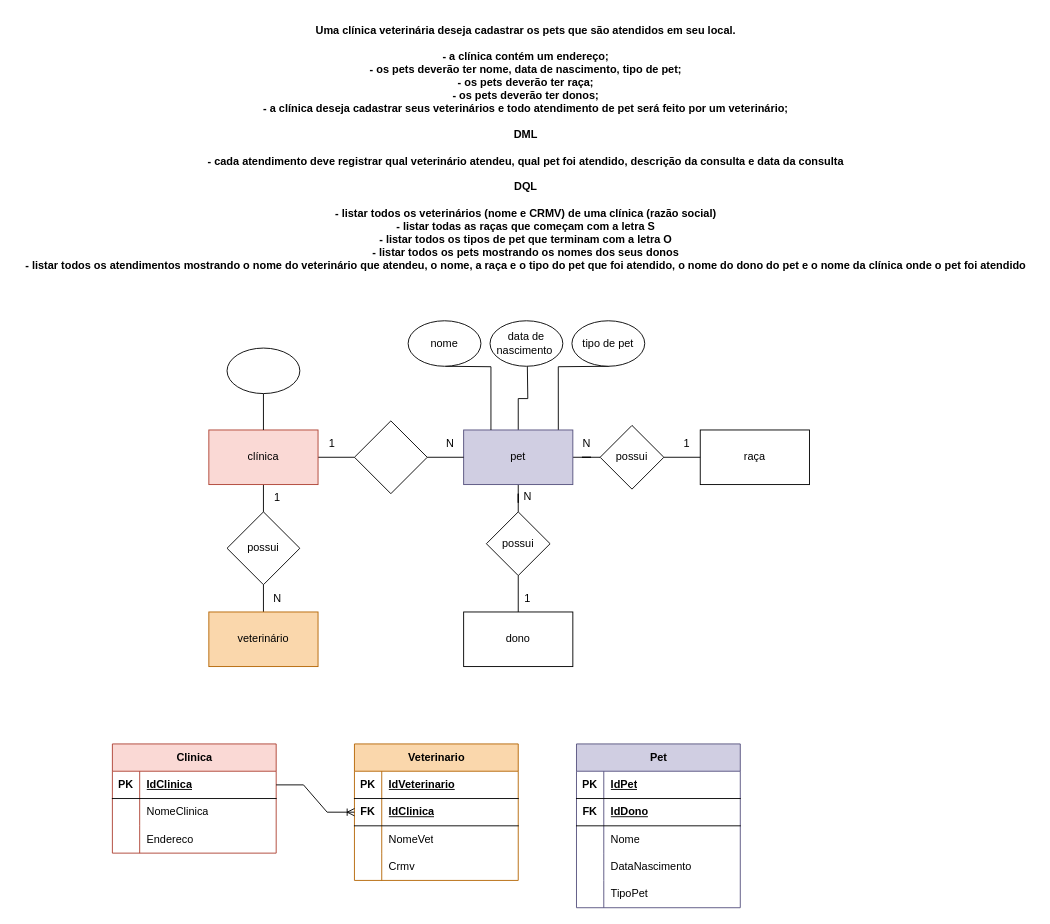
The diagram is 1050 pixels wide and 924 high, and some of its shapes have lost their labels. The shapes that lost their labels are listed below. From the top down, each one's centre as x and y in pixels, then its label:
(x=263, y=370): endereço
(x=390, y=457): atende
